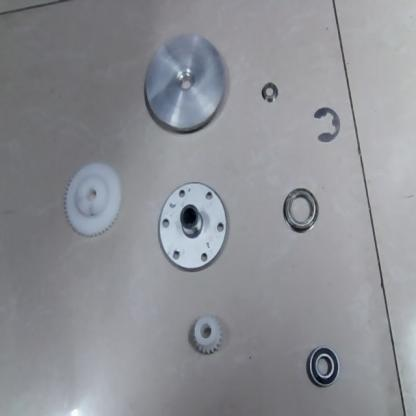FOD: (139, 34, 228, 139), (154, 176, 228, 269), (61, 159, 126, 245), (278, 186, 322, 237), (188, 311, 228, 365), (303, 348, 345, 385), (310, 101, 341, 144), (261, 78, 283, 107)
